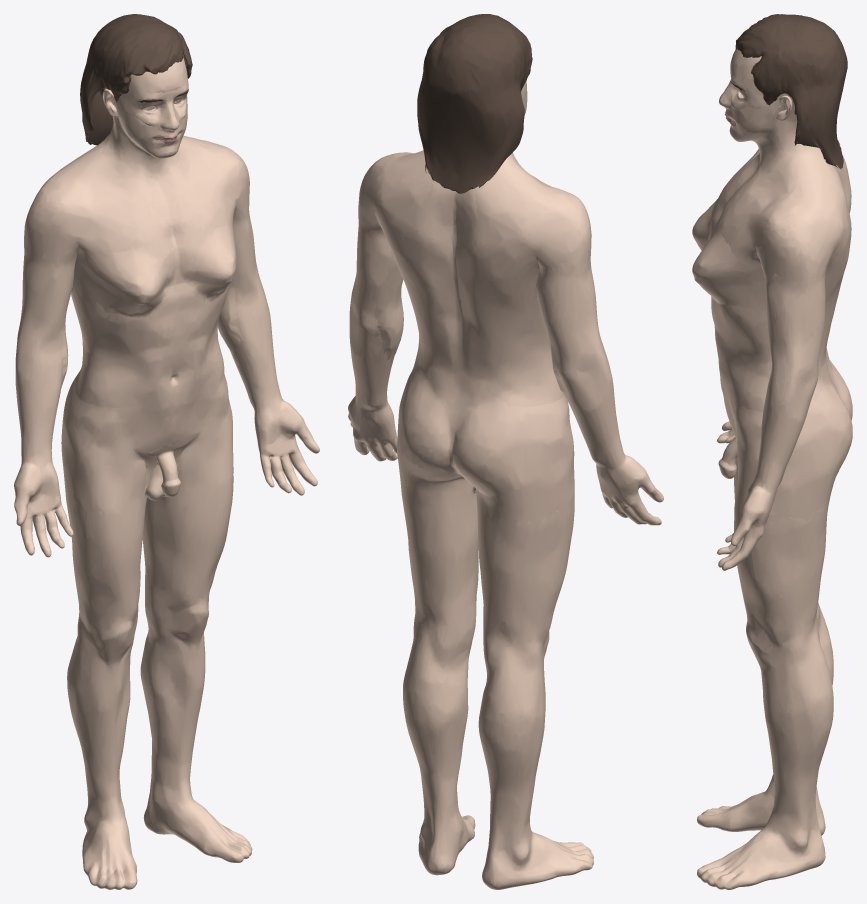
The model's file is skin.glb.
3 views of the same model, side by side, from view 1: azimuth 30°, elevation 25°; view 2: azimuth 150°, elevation 25°; view 3: azimuth 270°, elevation 25° (orthographic). The views are drawn at different scales.
Parts seen in each view (by area): view 1: Skin (×2), Hair of head; view 2: Skin (×2), Hair of head; view 3: Skin (×2), Hair of head.
Part boxes in pixels (<box>): Skin (×2): <box>14,57,319,889</box>; Hair of head: <box>80,14,192,145</box>; Skin (×2): <box>348,79,663,889</box>; Hair of head: <box>417,14,532,193</box>; Skin (×2): <box>692,49,852,889</box>; Hair of head: <box>735,14,847,169</box>.
Bounding box in the file's own units: 0.6669 × 1.74 × 0.3032.
